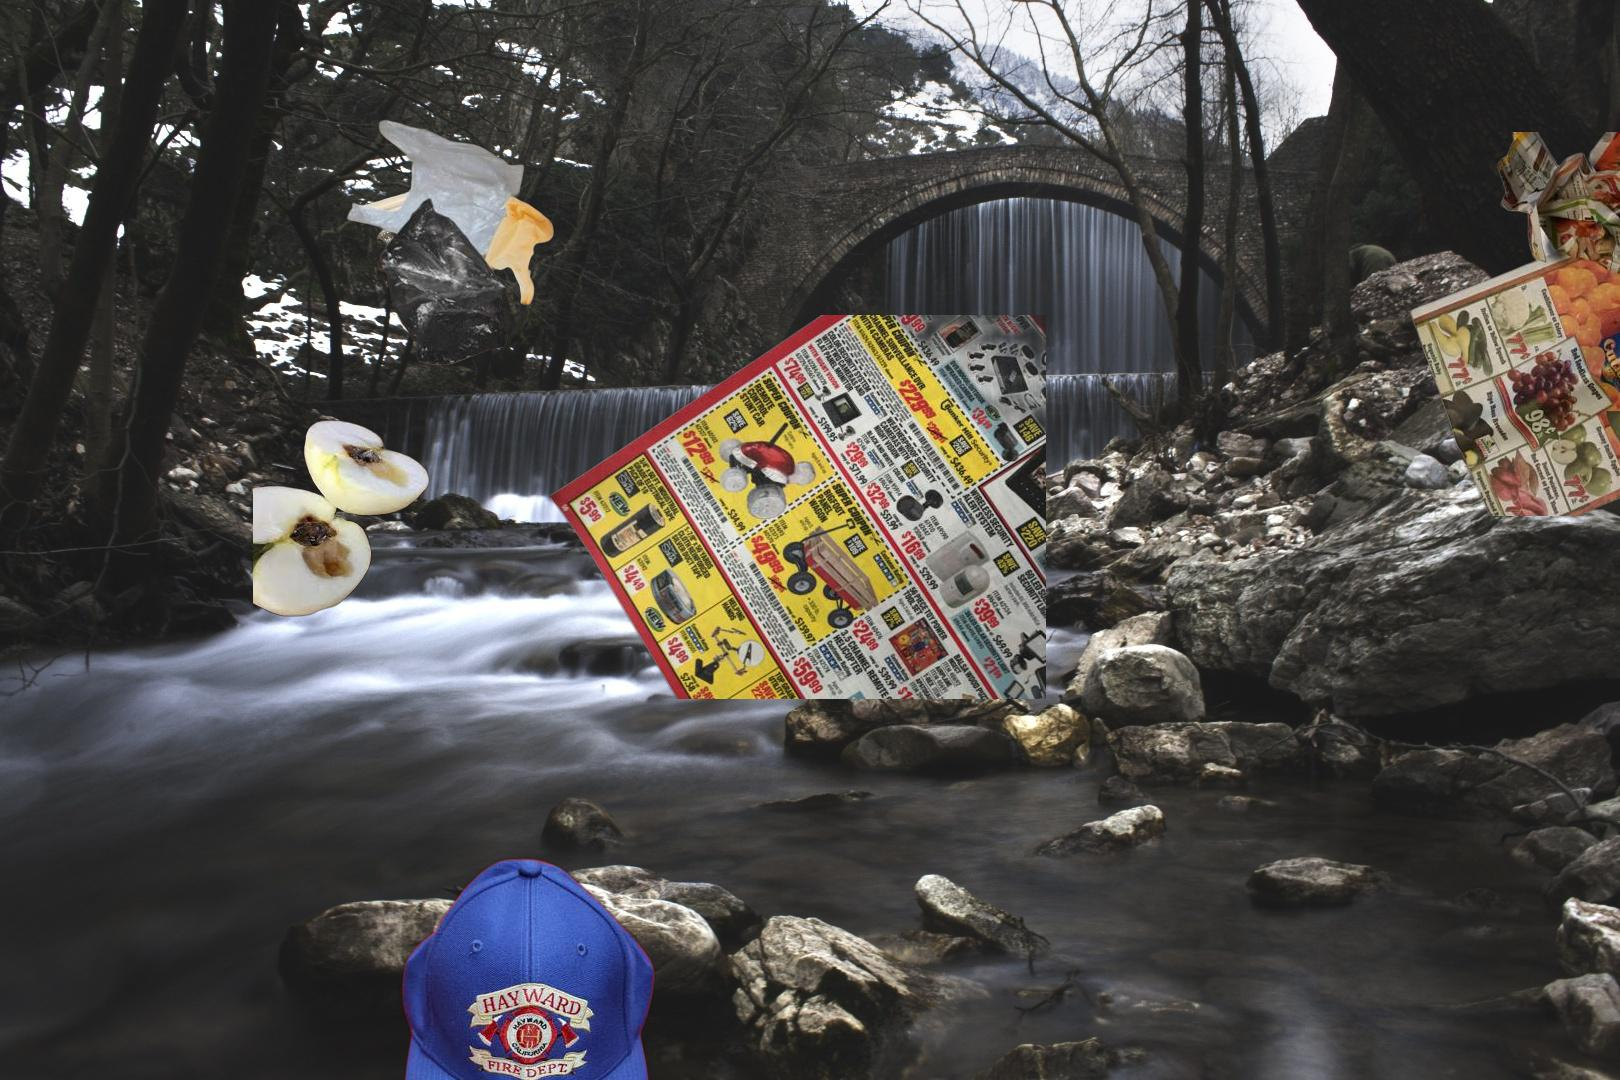biological: (253, 417, 432, 620)
clothes: (398, 855, 659, 1080)
paper: (545, 315, 1046, 699), (1405, 133, 1620, 516)
plastic-bag: (344, 118, 557, 369)
